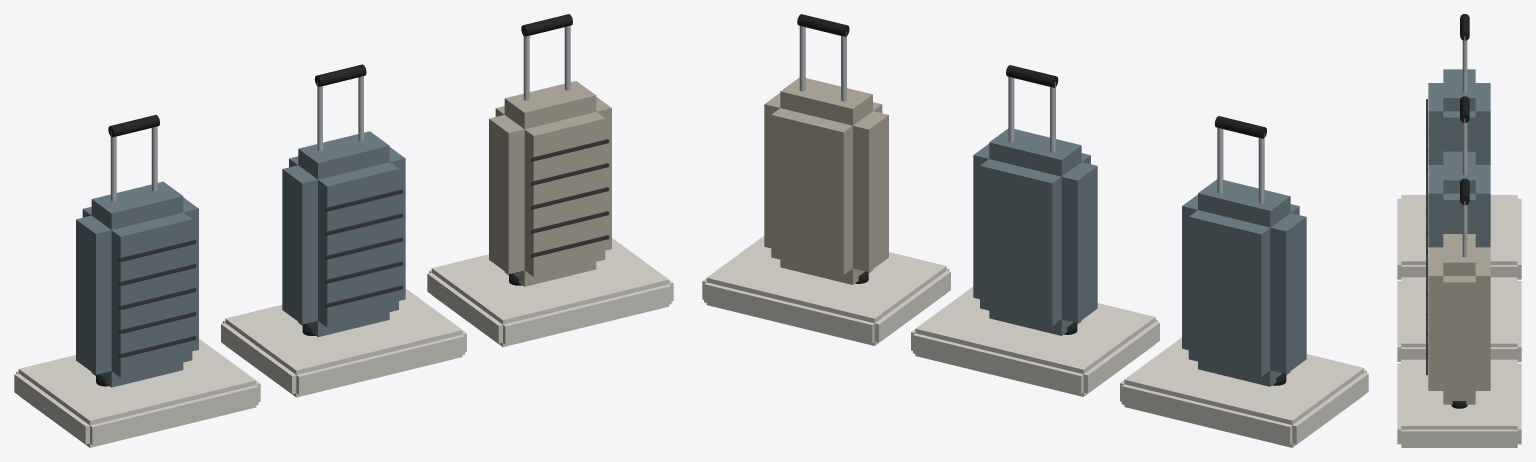
The model's file is travel_display.glb.
3 renders of one model, left to right at view 1: azimuth 30°, elevation 25°; view 2: azimuth 150°, elevation 25°; view 3: azimuth 270°, elevation 25°, orthographic. The views are drawn at different scales.
Parts seen in each view (by area): view 1: travel_display_Honed_solid_surface, travel_display_Luggage_shell_0, travel_display_Luggage_shell_2, travel_display_Anodised_graphite, travel_display_Brushed_stainless, travel_display_Grip_rubber; view 2: travel_display_Luggage_shell_0, travel_display_Honed_solid_surface, travel_display_Luggage_shell_2, travel_display_Brushed_stainless, travel_display_Grip_rubber; view 3: travel_display_Honed_solid_surface, travel_display_Luggage_shell_2, travel_display_Luggage_shell_0, travel_display_Brushed_stainless, travel_display_Grip_rubber, travel_display_Anodised_graphite.
Part boxes in pixels (x1,y1,x2,y2): travel_display_Honed_solid_surface: (14, 238, 673, 447); travel_display_Luggage_shell_0: (76, 131, 405, 387); travel_display_Luggage_shell_2: (489, 81, 611, 286); travel_display_Anodised_graphite: (118, 139, 609, 358); travel_display_Brushed_stainless: (110, 25, 570, 201); travel_display_Grip_rubber: (96, 14, 572, 386); travel_display_Luggage_shell_0: (973, 128, 1306, 386); travel_display_Honed_solid_surface: (702, 236, 1368, 447); travel_display_Luggage_shell_2: (764, 77, 888, 284); travel_display_Brushed_stainless: (799, 26, 1264, 203); travel_display_Grip_rubber: (797, 14, 1286, 385); travel_display_Honed_solid_surface: (1397, 195, 1521, 447); travel_display_Luggage_shell_2: (1428, 234, 1490, 404); travel_display_Luggage_shell_0: (1428, 69, 1490, 247); travel_display_Brushed_stainless: (1462, 36, 1467, 257); travel_display_Grip_rubber: (1451, 14, 1469, 408); travel_display_Anodised_graphite: (1426, 99, 1427, 375).
Bounding box in the file's own units: 2.05 × 0.9271 × 0.46.
